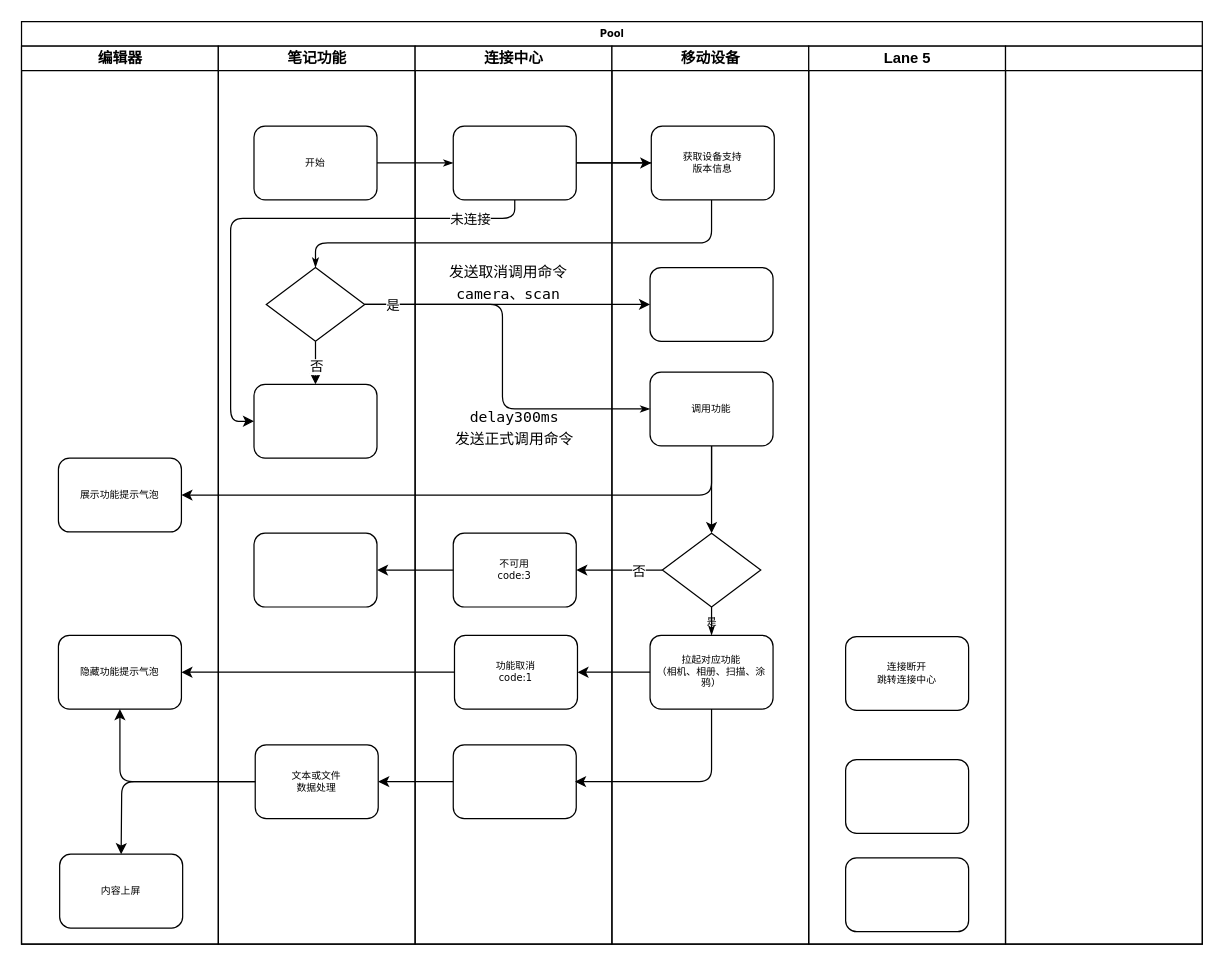
This 1224x966 diagram has some shape labels left out. Each missing label, with the centre of its shape:
Lane 6: (1103,494)
功能 是否支持: (315,303)
功能完成 code:0: (514,781)
取消当前view: (711,303)
提示“亮屏操作”: (315,569)
熄屏 是否可用: (711,569)
禁用菜单: (315,420)
设备连接: (514,162)
